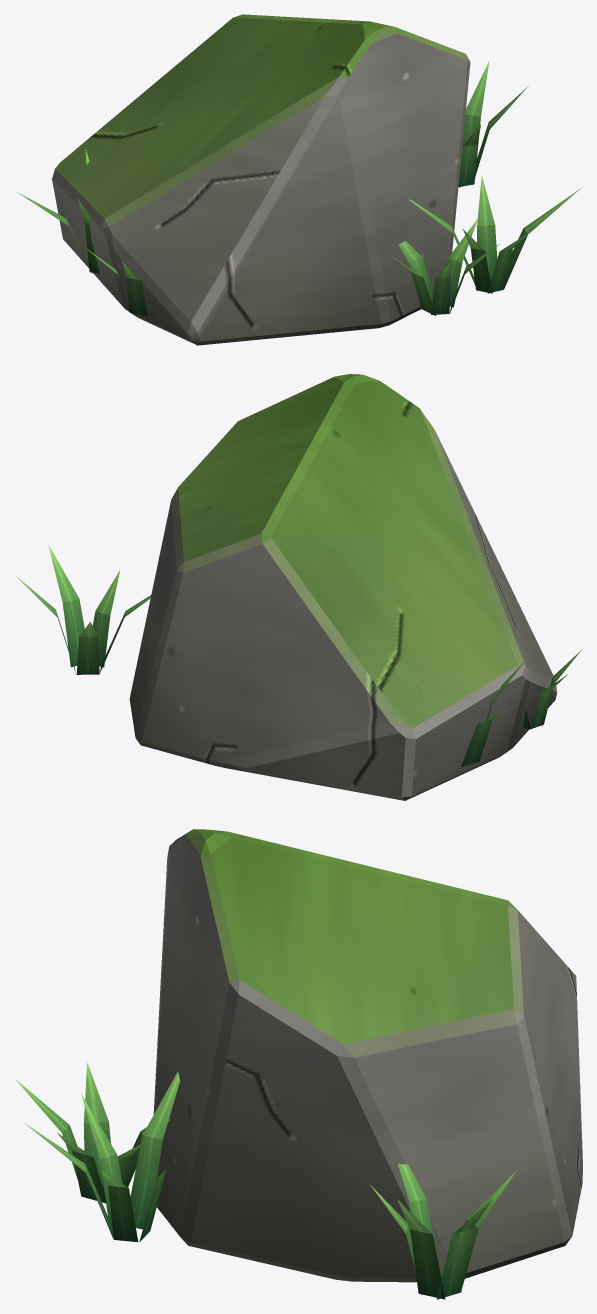
Rendered from boulder_2.glb.
The picture shows the model from 3 angles, top to bottom: view 1: azimuth 30°, elevation 25°; view 2: azimuth 150°, elevation 25°; view 3: azimuth 270°, elevation 25°; orthographic projection. The views are drawn at different scales.
Visible parts, largest first — view 1: boulder_2_rock, boulder_2_weeds; view 2: boulder_2_rock, boulder_2_weeds; view 3: boulder_2_rock, boulder_2_weeds.
Boxes of the visible parts, box(x1,y1,x2,y2) form: boulder_2_rock: box(52, 14, 470, 345); boulder_2_weeds: box(15, 61, 582, 316); boulder_2_rock: box(129, 374, 557, 800); boulder_2_weeds: box(15, 545, 582, 766); boulder_2_rock: box(153, 829, 582, 1282); boulder_2_weeds: box(15, 1063, 516, 1299).
Size of the model in its own units: 1.37 by 0.8195 by 1.05.
2 materials, 2 textured.
